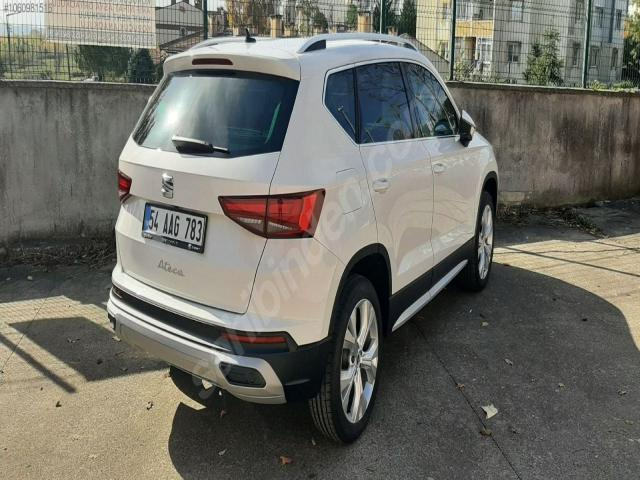plaka: (142, 204, 207, 252)
